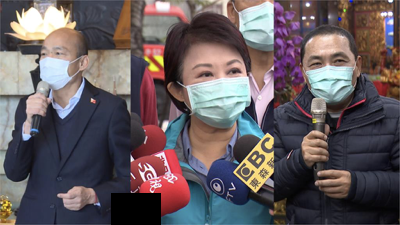with_mask: (181, 58, 252, 128), (303, 49, 358, 107), (40, 43, 82, 91)
